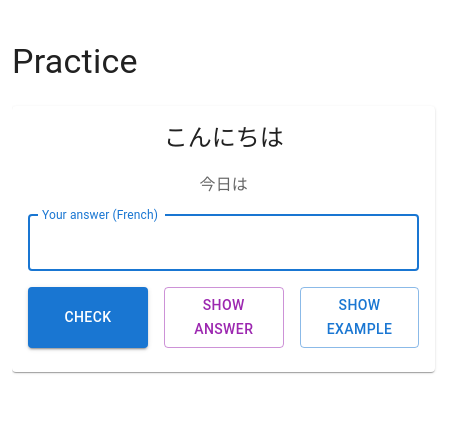
Test case: Practice Component › handles incorrect answer
The width and height of the screenshot is (453, 423).
Expected: the heading "こんにちは" is shown, [164,124,284,152]
Enter wrong answer
Type "wrong" into the field labelled "Your answer (French)".
click(224, 242); type("wrong")  # box [28,214,420,270]
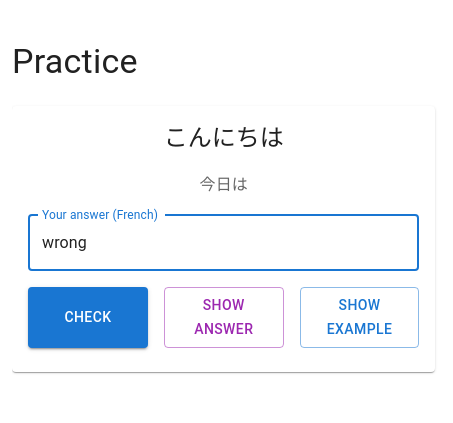
Submit answer
Click the button "Check".
click(88, 317)  # box [28,286,148,348]
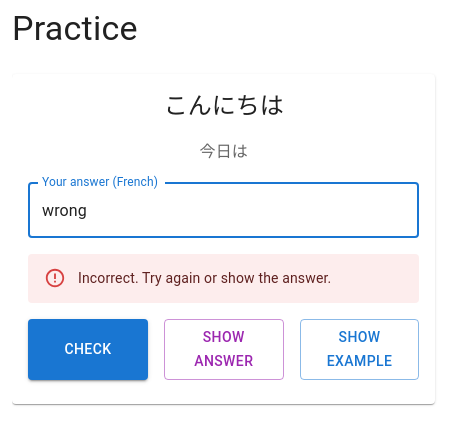
Expected: the text "Incorrect. Try again or show the answer." is shown, [78,270,331,286]
